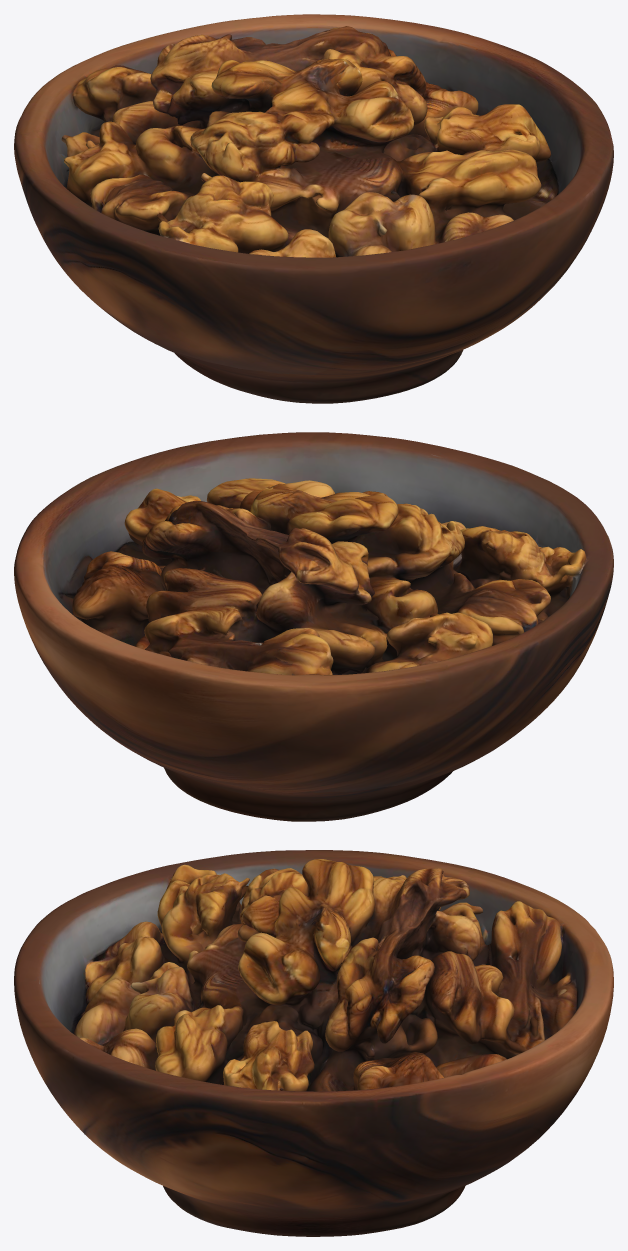
The model's file is Walnuts.glb.
The picture shows the model from 3 angles, top to bottom: view 1: azimuth 30°, elevation 25°; view 2: azimuth 150°, elevation 25°; view 3: azimuth 270°, elevation 25°; orthographic projection.
Visible parts, largest first — view 1: vrin_node_8406c0cc-6214-4482-8c47-501184bf00d6; view 2: vrin_node_8406c0cc-6214-4482-8c47-501184bf00d6; view 3: vrin_node_8406c0cc-6214-4482-8c47-501184bf00d6.
Boxes of the visible parts, left/top/right/bottom form: vrin_node_8406c0cc-6214-4482-8c47-501184bf00d6: left=14, top=14, right=613, bottom=403; vrin_node_8406c0cc-6214-4482-8c47-501184bf00d6: left=14, top=432, right=613, bottom=821; vrin_node_8406c0cc-6214-4482-8c47-501184bf00d6: left=14, top=850, right=613, bottom=1236.
Size of the model in its own units: 0.9988 by 0.554 by 1.
1 material, 1 textured.
